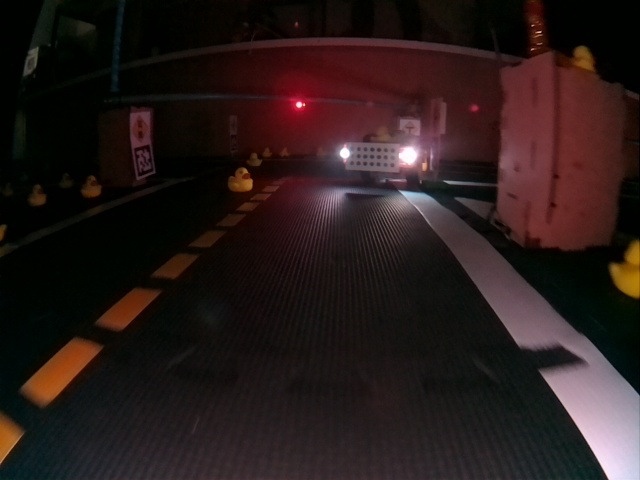Duckie: (610, 241, 638, 297), (573, 46, 595, 70), (232, 168, 252, 190), (82, 178, 102, 198), (29, 184, 46, 205), (250, 153, 260, 162), (279, 150, 288, 158)
Duckiebot: (343, 142, 434, 186)
QR code: (133, 145, 156, 177)
Signal sign: (129, 112, 152, 142)
Traffic light: (294, 97, 306, 109)
